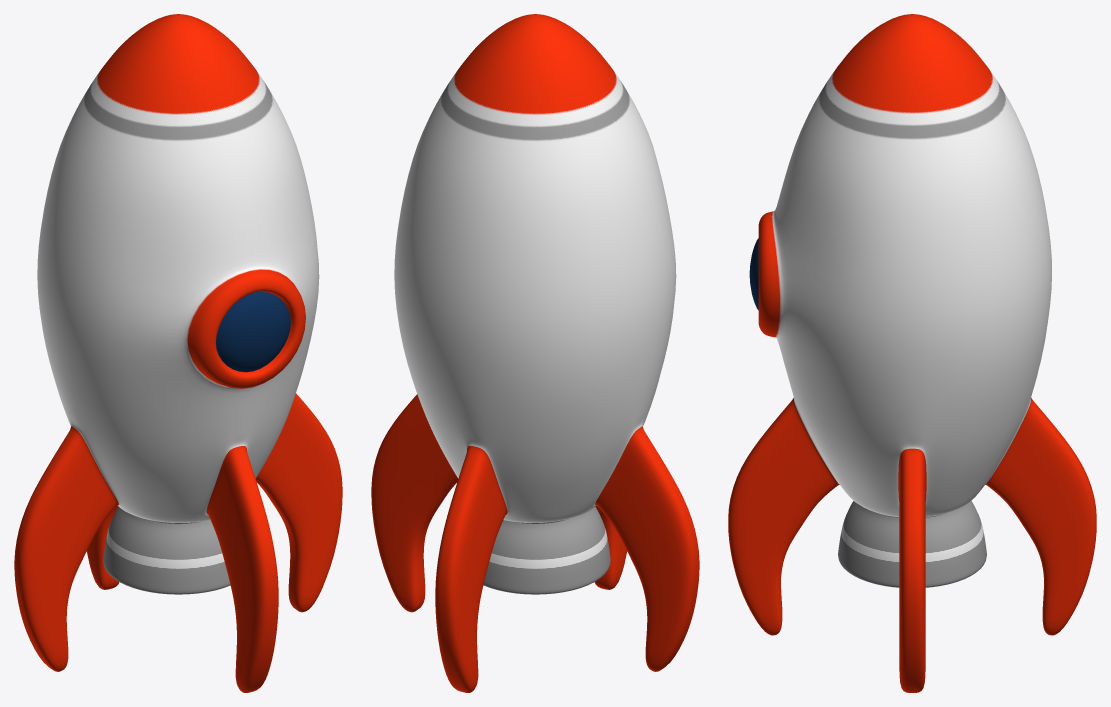
3 views of the same model, side by side, from view 1: azimuth 30°, elevation 25°; view 2: azimuth 150°, elevation 25°; view 3: azimuth 270°, elevation 25° (orthographic).
Parts seen in each view (by area): view 1: rocket_1; view 2: rocket_1; view 3: rocket_1.
Boxes of the visible parts, x1,y1,x2,y2 form: rocket_1: [14, 14, 342, 692]; rocket_1: [371, 14, 699, 692]; rocket_1: [728, 14, 1096, 692].
Size of the model in its own units: 0.0564 by 0.1043 by 0.0564.
Materials: 1 (1 with a texture image).
